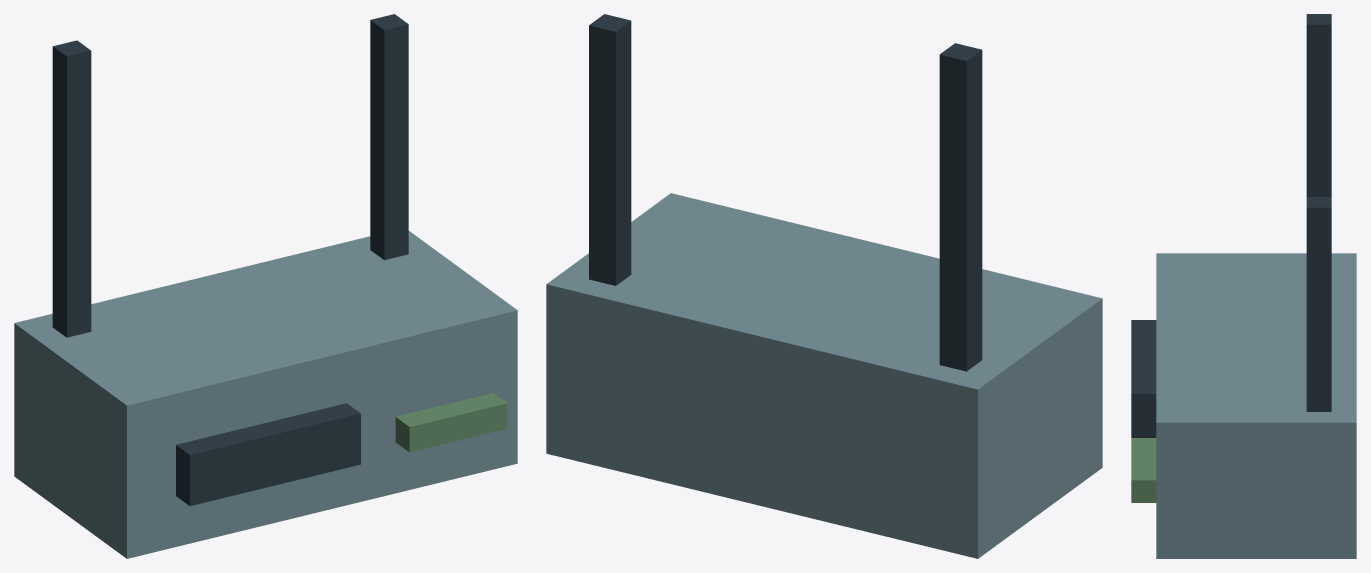
The model's file is telecom-12.glb.
3 renders of one model, left to right at view 1: azimuth 30°, elevation 25°; view 2: azimuth 150°, elevation 25°; view 3: azimuth 270°, elevation 25°, orthographic. The views are drawn at different scales.
Parts seen in each view (by area): view 1: Walkie talkie; view 2: Walkie talkie; view 3: Walkie talkie.
Part boxes in pixels (box(x1,y1,x2,y2)): Walkie talkie: box(14, 14, 517, 558); Walkie talkie: box(546, 14, 1102, 558); Walkie talkie: box(1131, 14, 1356, 558).
Size of the model in its own units: 1.28 by 1.36 by 0.72.
